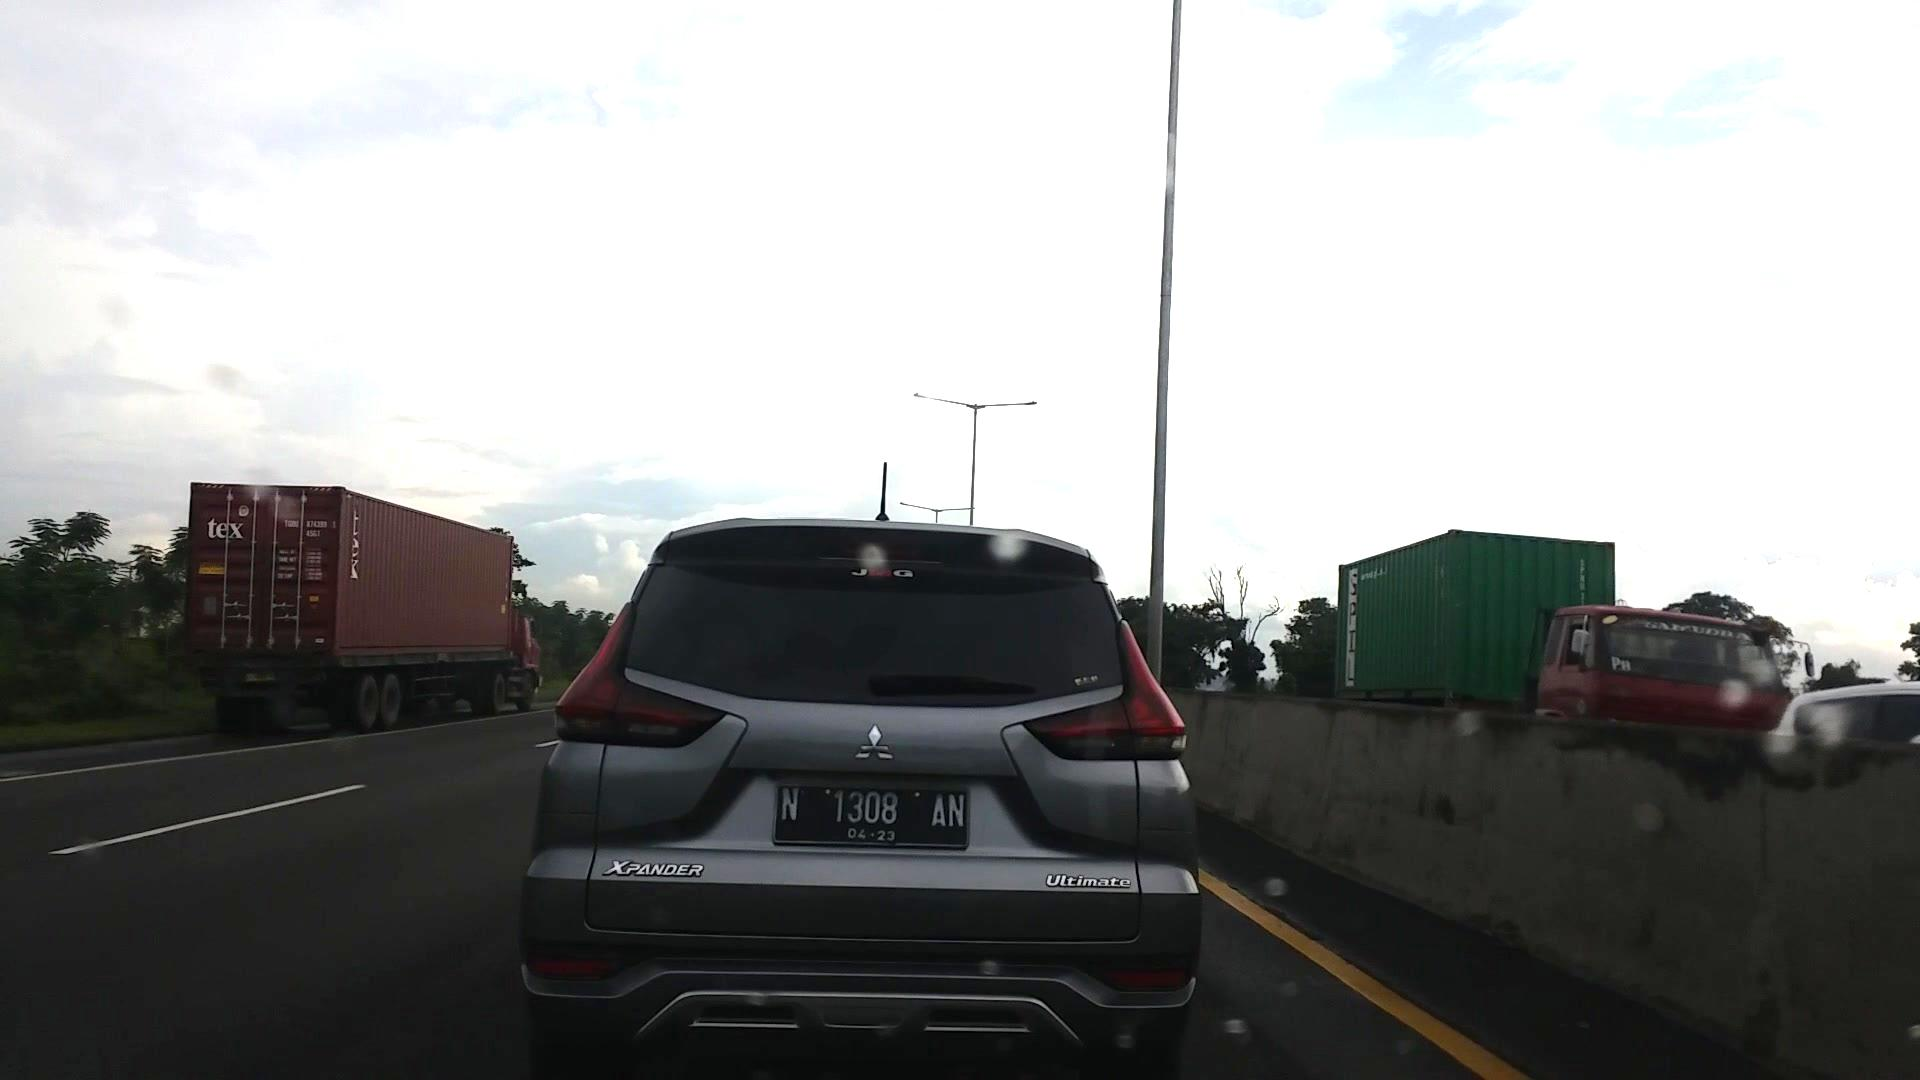plate_positive: (771, 785, 969, 851)
